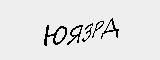Д: (101, 15, 120, 37)
З: (81, 19, 93, 45)
Р: (90, 17, 105, 40)
Ю: (42, 22, 69, 46)
Я: (66, 23, 83, 46)
